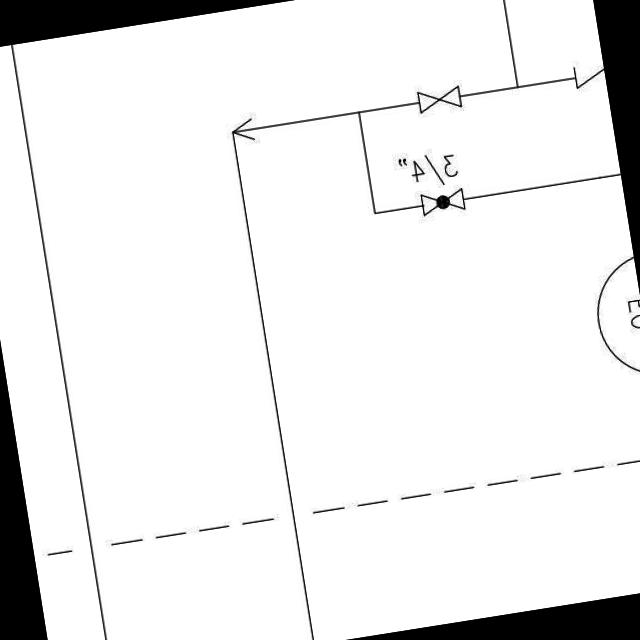BV2: (412, 182, 468, 222)
GV: (411, 82, 468, 116)
